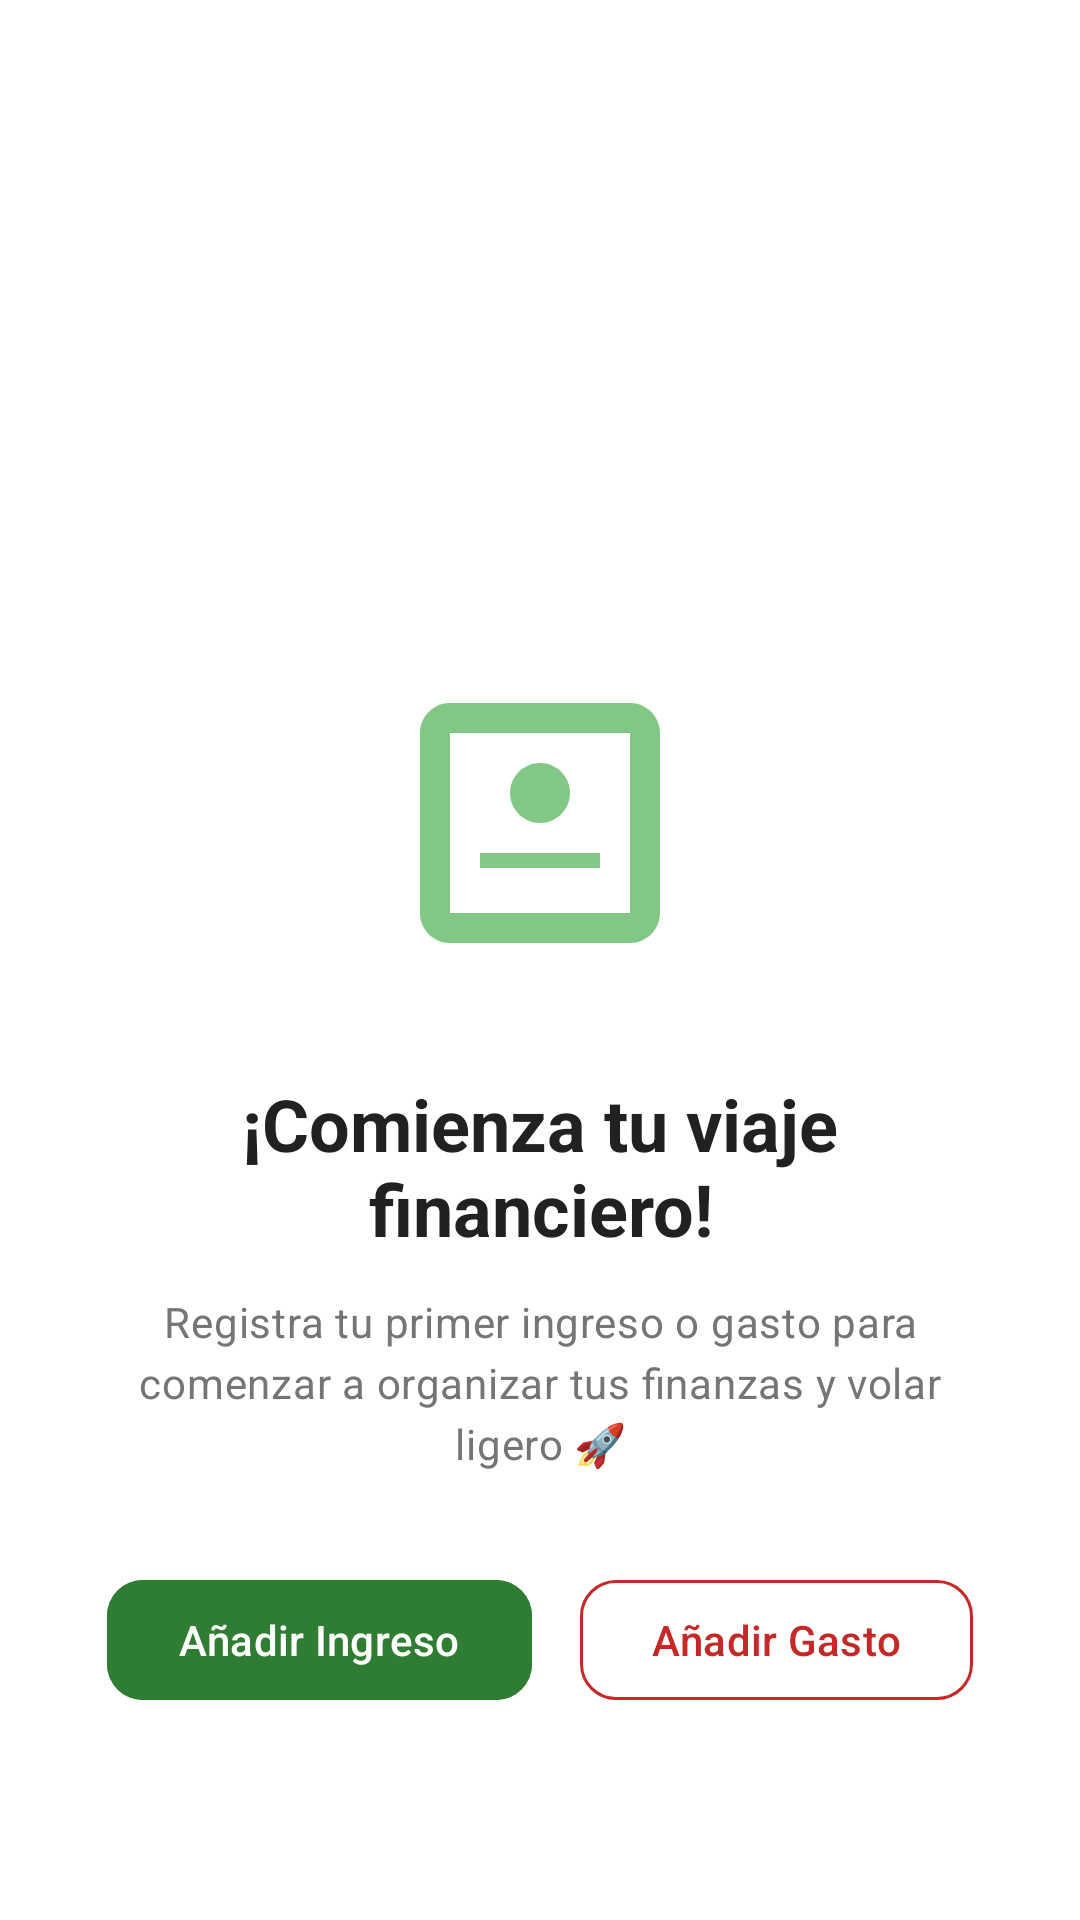

Named icons in this screenshot (1080*1920) and their bounding boxes, (x1, y1, x2, y2):
Estado vacío: (420, 703, 660, 943)
